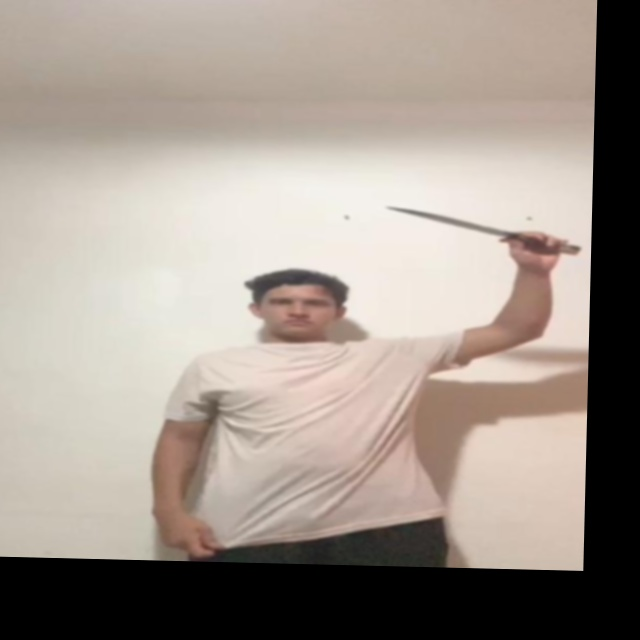Sharp-Object: (383, 203, 511, 238)
